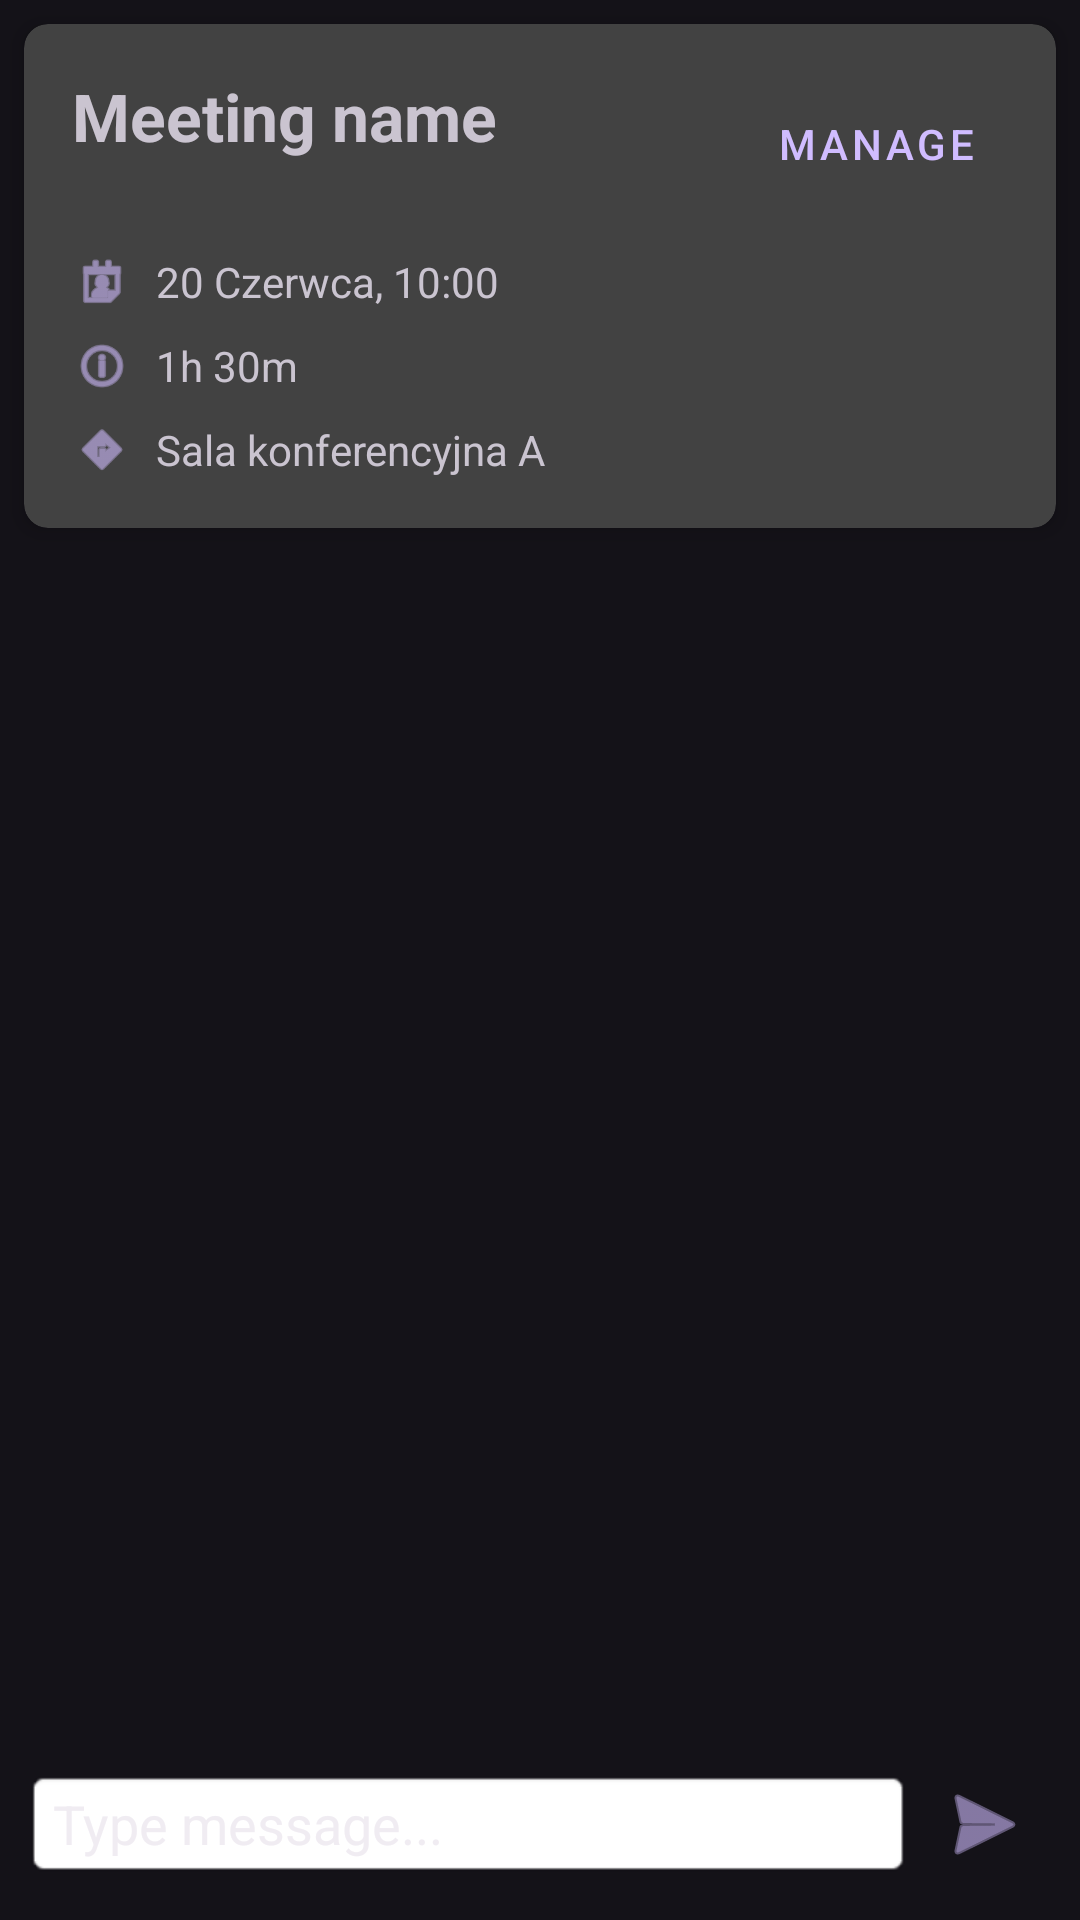

Icons on this 1080x1920 Android screen, each with its box as (x1, y1, x2, y2):
directions: (81, 429, 123, 470)
info details: (80, 344, 124, 388)
send: (954, 1794, 1016, 1855)
